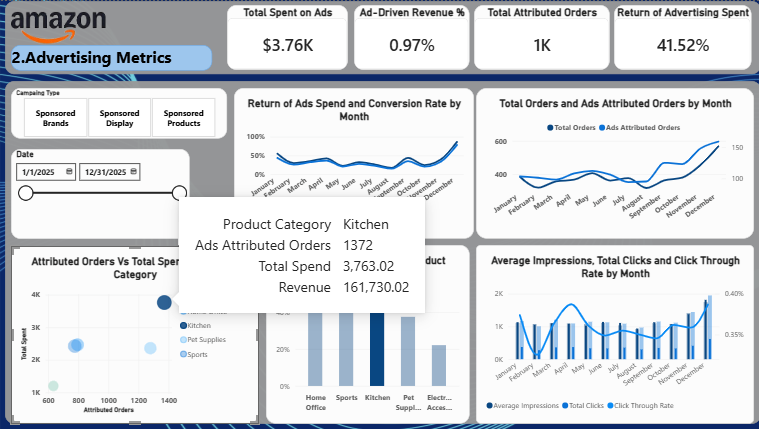

The page's visual inventory and layout, read from the dashboard file:
{"tool":"powerbi","page":{"name":"Page Ads","canvas":[1280,720],"ordinal":1},"visuals":[{"type":"textbox","box":[10.3,133.7,1269.6,576],"z":0},{"type":"textbox","box":[10.3,0,1269.6,123.4],"z":1000},{"type":"cardVisual","title":"Total Spent on Ads","fields":{"Data":["Sum(ads_daily.spend)"]},"box":[383.5,7.3,202.8,108.7],"z":2000},{"type":"cardVisual","title":"Return of Advertising Spent","fields":{"Data":["ads_daily.ROAS"]},"box":[1033,7.3,230.7,108.7],"z":3000},{"type":"slicer","fields":{"Values":["ads_daily.campaign_type"]},"box":[20.6,146.9,362.9,85.2],"z":4000},{"type":"cardVisual","title":"Total Attributed Orders","fields":{"Data":["orders.Attributed Orders"]},"box":[797.9,7.3,227.8,108.7],"z":5000},{"type":"lineChart","fields":{"Y":["ads_daily.ROAS","ads_daily.CVR"],"Category":["orders.order_date.Variation.Date Hierarchy.Month"]},"box":[395.3,146.9,402.6,252.7],"z":6000},{"type":"lineChart","fields":{"Y":["CountNonNull(orders.order_id)"],"Y2":["orders.Attributed Orders"],"Category":["orders.order_date.Variation.Date Hierarchy.Month"]},"box":[800.8,146.9,467.3,252.7],"z":7000},{"type":"clusteredColumnChart","title":"Rerturn of Ads Spent by Product Category","fields":{"Y":["ads_daily.ROAS"],"Category":["sku_catalog.category"]},"box":[448.2,410,342.4,299.8],"z":8000},{"type":"scatterChart","title":"Attributed Orders Vs Total Spent by Product Category","fields":{"Series":["sku_catalog.category"],"X":["orders.Attributed Orders"],"Y":["Sum(ads_daily.spend)"],"Size":["Sum(orders.revenue)"]},"box":[20.6,411.4,415.8,298.3],"z":9000},{"type":"slicer","fields":{"Values":["orders.order_date"]},"box":[20.6,248.3,299.8,151.3],"z":10000},{"type":"textbox","box":[20.6,73.5,338,42.6],"z":11000},{"type":"lineClusteredColumnComboChart","fields":{"Y":["Avg(ads_daily.impressions)","Sum(ads_daily.clicks)"],"Y2":["ads_daily.CTR"],"Category":["orders.order_date.Variation.Date Hierarchy.Month"]},"box":[800.8,410,467.3,299.8],"z":12000},{"type":"cardVisual","title":"Ad-Driven Revenue %","fields":{"Data":["ads_daily.Ad-Driven Revenue %"]},"box":[596.6,7.3,194,108.7],"z":13000},{"type":"image","box":[10.3,0,179.3,95.5],"z":14000}]}

Visuals, with their boxes on the page's 1280x720 design canvas (x1, y1, x2, y2). These are canvas units, not pixel positions in the 759x445 screenshot, which may show the page scaled, cropped or inside an application window:
textbox: x1=10 y1=134 x2=1280 y2=710
textbox: x1=10 y1=0 x2=1280 y2=123
"Total Spent on Ads" cardVisual: x1=384 y1=7 x2=586 y2=116
"Return of Advertising Spent" cardVisual: x1=1033 y1=7 x2=1264 y2=116
slicer - ads_daily.campaign_type: x1=21 y1=147 x2=384 y2=232
"Total Attributed Orders" cardVisual: x1=798 y1=7 x2=1026 y2=116
lineChart - ads_daily.ROAS x ads_daily.CVR: x1=395 y1=147 x2=798 y2=400
lineChart - CountNonNull(orders.order_id) x orders.Attributed Orders: x1=801 y1=147 x2=1268 y2=400
"Rerturn of Ads Spent by Product Category" clusteredColumnChart: x1=448 y1=410 x2=791 y2=710
"Attributed Orders Vs Total Spent by Product Category" scatterChart: x1=21 y1=411 x2=436 y2=710
slicer - orders.order_date: x1=21 y1=248 x2=320 y2=400
textbox: x1=21 y1=74 x2=359 y2=116
lineClusteredColumnComboChart - Avg(ads_daily.impressions) x Sum(ads_daily.clicks): x1=801 y1=410 x2=1268 y2=710
"Ad-Driven Revenue %" cardVisual: x1=597 y1=7 x2=791 y2=116
image: x1=10 y1=0 x2=190 y2=96
